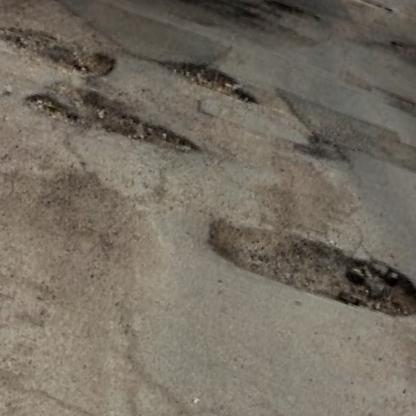pothole: (200, 204, 416, 340), (78, 94, 208, 167), (0, 15, 120, 87), (158, 52, 263, 109), (23, 89, 82, 135), (295, 131, 349, 169), (314, 0, 393, 15), (270, 0, 319, 23), (389, 36, 416, 68)
